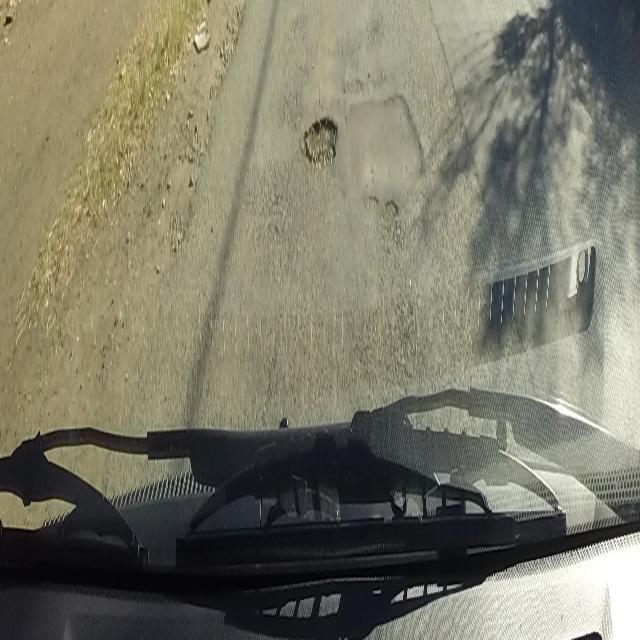pothole: (302, 109, 338, 172)
